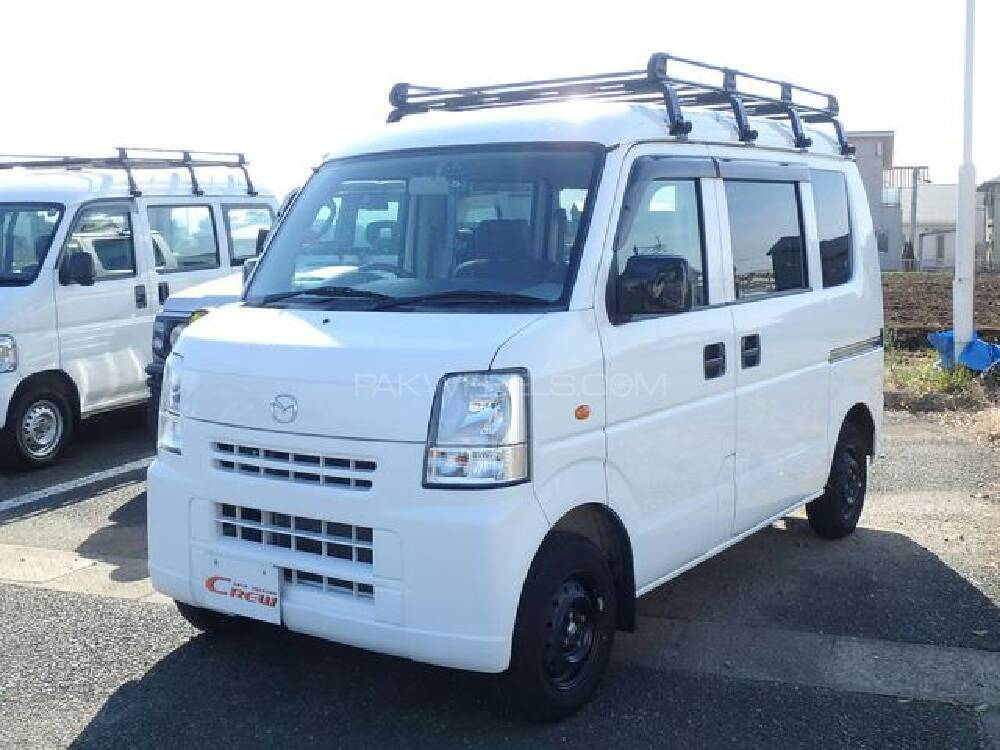van: (143, 99, 884, 719), (1, 168, 283, 472)
